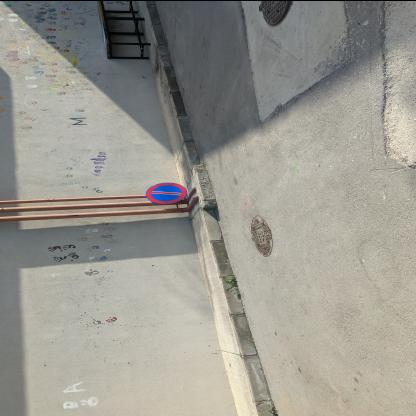No Waiting: (147, 183, 189, 205)
